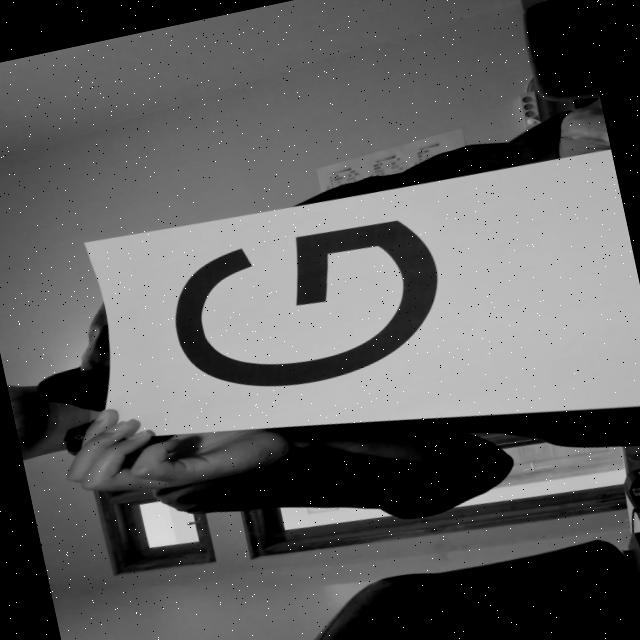g: (140, 196, 468, 427)
